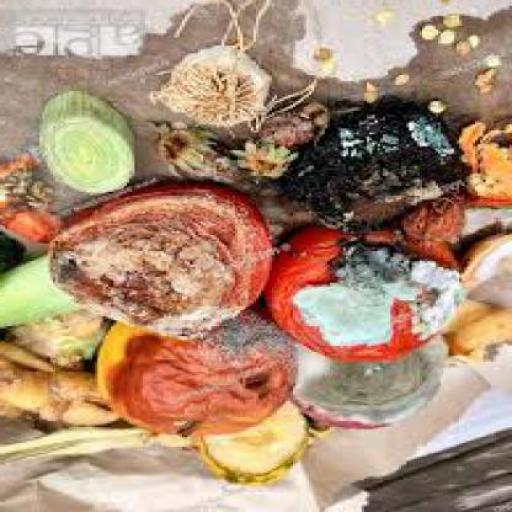biodegradable: (55, 184, 277, 344), (98, 312, 301, 440), (275, 233, 470, 364), (287, 105, 467, 241), (155, 6, 327, 132), (294, 350, 451, 435), (44, 92, 143, 198), (201, 408, 316, 486), (3, 431, 198, 475), (156, 124, 266, 196), (3, 367, 121, 429), (2, 255, 90, 330), (10, 308, 112, 370), (459, 122, 511, 220), (2, 156, 58, 245), (462, 227, 512, 312), (401, 194, 473, 250), (440, 304, 510, 358), (258, 101, 332, 148), (234, 138, 301, 182), (2, 338, 66, 372), (374, 10, 401, 29), (475, 71, 499, 87), (480, 55, 505, 69), (430, 101, 449, 118), (314, 51, 332, 67), (465, 33, 483, 49), (441, 32, 459, 46), (478, 85, 496, 97), (396, 77, 414, 89), (454, 40, 467, 56), (448, 18, 464, 30), (364, 97, 386, 105), (428, 32, 440, 46), (370, 81, 382, 91)
